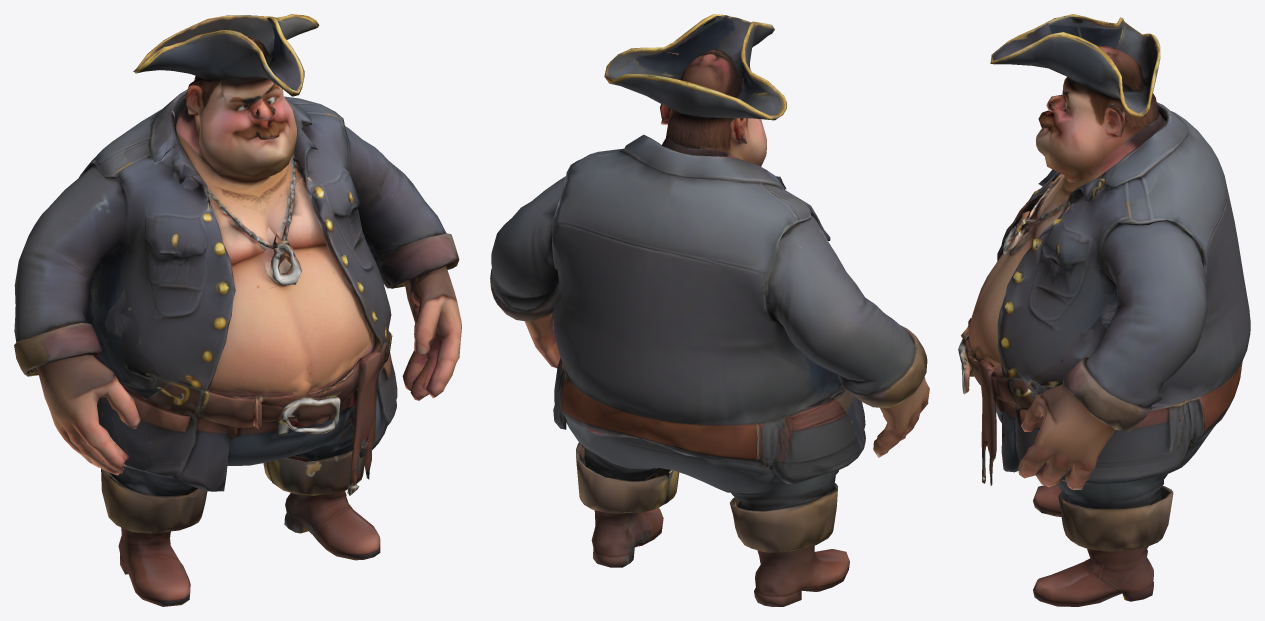
Rendered from 3D_obese_pirate_man__0802062207_texture.fbx.
The picture shows the model from 3 angles, left to right: view 1: azimuth 30°, elevation 25°; view 2: azimuth 150°, elevation 25°; view 3: azimuth 270°, elevation 25°; orthographic projection. The views are drawn at different scales.
Visible parts, largest first — view 1: Mesh1.0; view 2: Mesh1.0; view 3: Mesh1.0.
Part boxes in pixels (<box>): Mesh1.0: <box>14,14,461,606</box>; Mesh1.0: <box>490,14,929,606</box>; Mesh1.0: <box>958,14,1250,606</box>.
Size of the model in its own units: 165 by 200 by 100.
1 material, 1 textured.
